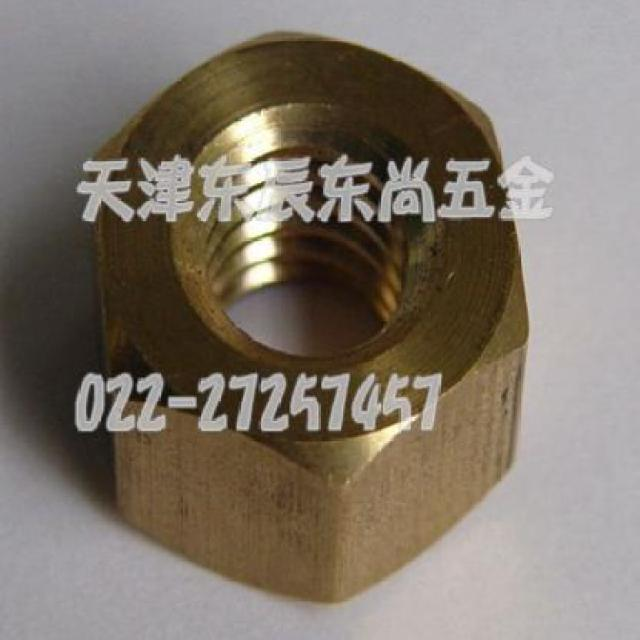Nut: (79, 26, 533, 605)
